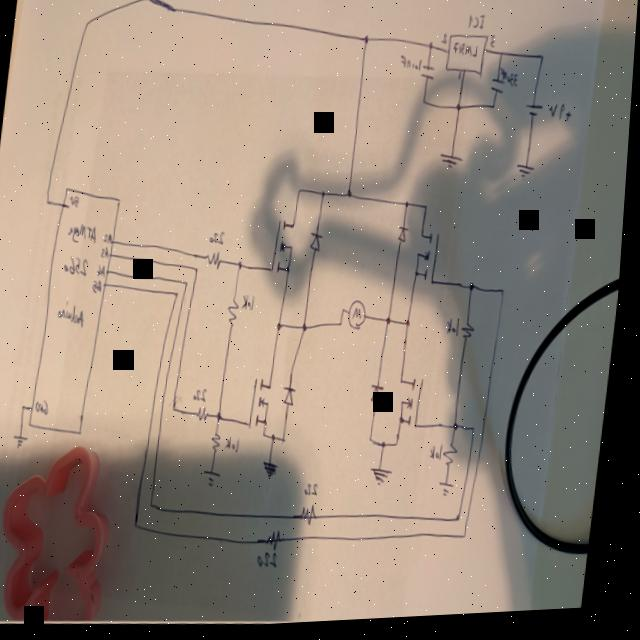capacitor: (491, 80, 507, 100), (421, 65, 437, 85)
diode: (311, 231, 328, 257), (287, 385, 303, 410), (374, 384, 390, 409), (399, 225, 413, 248)
ground: (374, 467, 400, 491), (440, 155, 466, 175), (208, 469, 229, 491), (517, 167, 539, 185), (267, 460, 285, 481), (443, 484, 461, 503), (18, 432, 35, 448)
junction: (82, 15, 94, 34), (456, 104, 465, 117), (363, 35, 371, 48), (221, 411, 229, 424), (47, 194, 54, 207), (458, 425, 465, 437), (280, 323, 288, 333), (139, 520, 147, 530), (409, 321, 416, 332), (386, 442, 393, 453), (499, 53, 506, 64), (389, 319, 396, 329), (472, 286, 479, 296), (240, 261, 247, 271), (276, 435, 283, 445), (349, 191, 356, 201), (306, 325, 313, 335), (468, 535, 475, 545), (428, 43, 435, 53), (476, 428, 483, 438), (187, 279, 194, 289), (461, 517, 468, 527), (406, 203, 412, 212), (299, 189, 305, 198), (504, 291, 510, 300), (540, 58, 546, 67), (374, 438, 380, 447), (155, 500, 161, 509), (323, 192, 329, 200), (177, 291, 183, 299), (399, 444, 405, 452), (198, 266, 203, 275), (426, 206, 431, 215), (344, 309, 350, 316), (492, 106, 497, 114), (287, 438, 292, 446), (423, 101, 428, 109), (177, 405, 182, 413), (267, 433, 272, 441), (27, 402, 31, 411), (343, 323, 347, 331)
resistor: (229, 298, 245, 330), (448, 446, 466, 469), (306, 506, 325, 527), (272, 530, 290, 552), (208, 251, 227, 270), (464, 325, 480, 344), (216, 433, 228, 455), (200, 406, 215, 423)
source: (524, 107, 546, 123)
text: (60, 298, 92, 330), (70, 220, 103, 248), (66, 254, 93, 281), (549, 104, 575, 130), (399, 56, 425, 77), (452, 43, 479, 63), (263, 551, 287, 573), (467, 15, 487, 35), (500, 72, 520, 91), (449, 319, 465, 340), (230, 436, 247, 455), (39, 398, 56, 416), (435, 446, 451, 465), (245, 294, 259, 313), (197, 388, 213, 404), (310, 484, 326, 500), (212, 231, 228, 247), (96, 277, 108, 295), (69, 193, 83, 208), (100, 262, 110, 280), (105, 231, 117, 245), (103, 245, 113, 261), (488, 37, 498, 53), (440, 36, 450, 49), (458, 72, 464, 85)
transistor: (398, 376, 430, 435), (272, 218, 300, 278), (416, 234, 444, 290), (252, 378, 279, 432)
